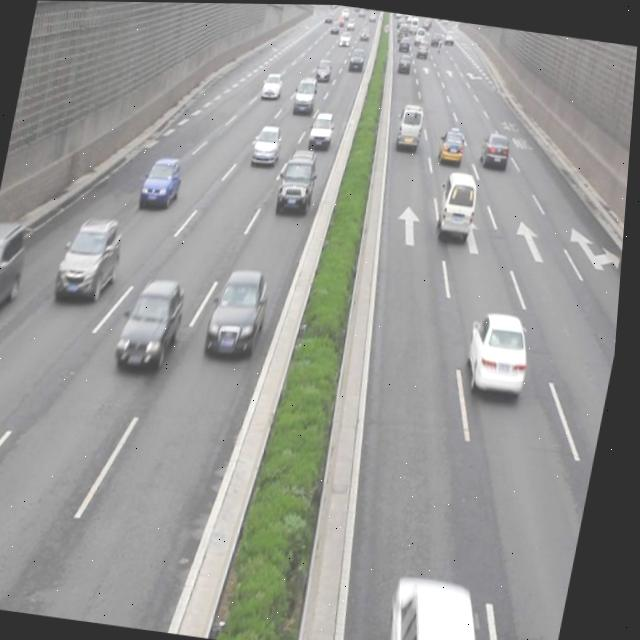car: (391, 565, 508, 640), (116, 270, 192, 373), (56, 208, 130, 305), (206, 262, 277, 359), (465, 305, 539, 396), (0, 215, 35, 327), (277, 145, 322, 213), (140, 152, 187, 212), (251, 121, 285, 167), (479, 129, 513, 170), (307, 107, 338, 150), (437, 124, 468, 166)
truck: (436, 167, 483, 239), (394, 102, 428, 152), (292, 75, 320, 115)
